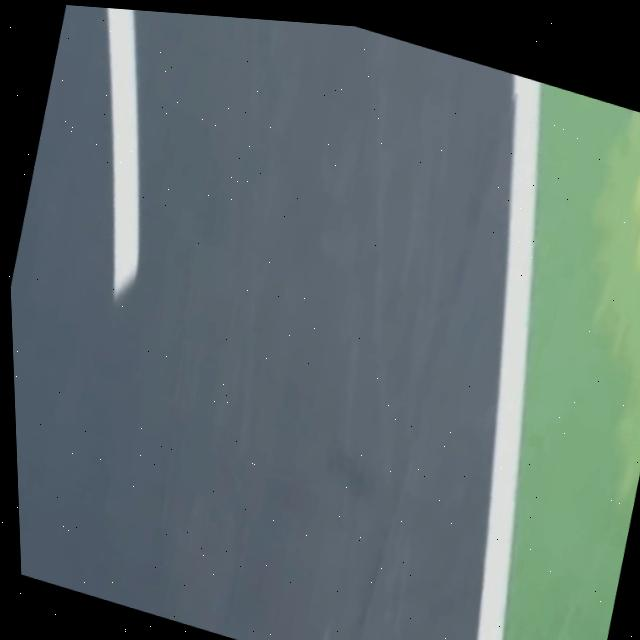center: (105, 8, 138, 299)
right: (476, 74, 540, 640)
